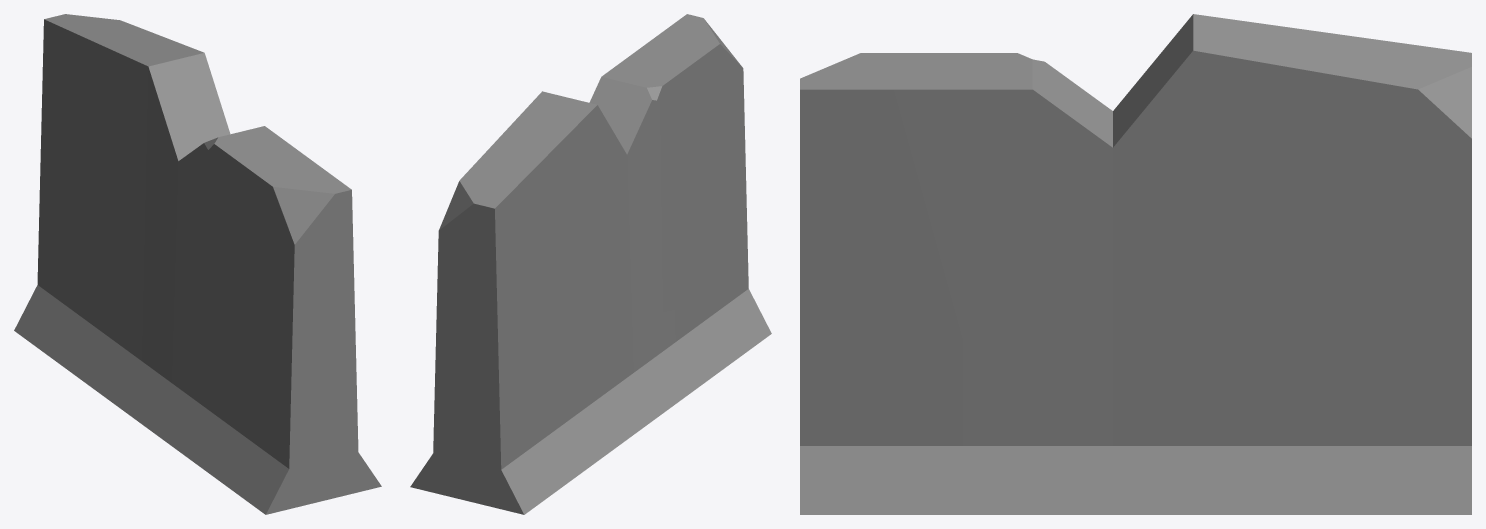
The model's file is RoadPart_07.glb.
The picture shows the model from 3 angles, left to right: view 1: azimuth 30°, elevation 25°; view 2: azimuth 150°, elevation 25°; view 3: azimuth 270°, elevation 25°; orthographic projection. The views are drawn at different scales.
Visible parts, largest first — view 1: RoadPart_07; view 2: RoadPart_07; view 3: RoadPart_07.
Part boxes in pixels (<box>): RoadPart_07: <box>14,14,381,514</box>; RoadPart_07: <box>410,14,771,514</box>; RoadPart_07: <box>800,14,1471,514</box>.
Size of the model in its own units: 0.4 by 1.1 by 1.5.
Materials: 1 (1 with a texture image).
